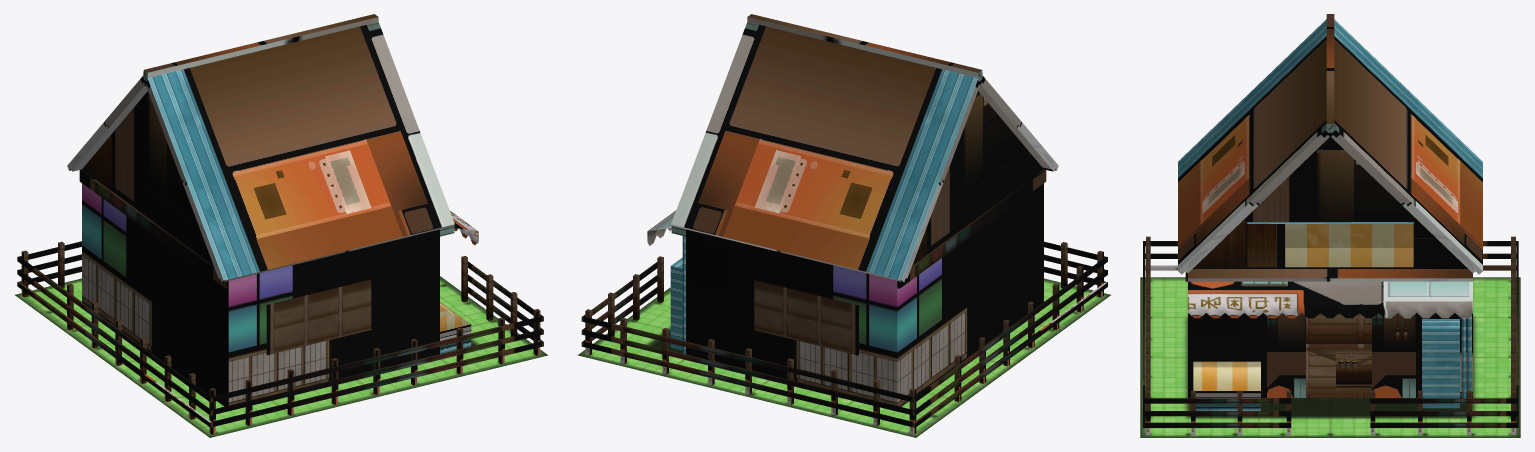
File: farm_build_Exchange.fbx
The picture shows the model from 3 angles, left to right: view 1: azimuth 30°, elevation 25°; view 2: azimuth 150°, elevation 25°; view 3: azimuth 270°, elevation 25°; orthographic projection. The views are drawn at different scales.
Visible parts, largest first — view 1: farm_build_09, farm_build_09_tile; view 2: farm_build_09, farm_build_09_tile; view 3: farm_build_09, farm_build_09_tile.
Boxes of the visible parts, left/top/right/bottom form: farm_build_09: left=17, top=14, right=543, bottom=434; farm_build_09_tile: left=15, top=276, right=547, bottom=437; farm_build_09: left=581, top=14, right=1107, bottom=434; farm_build_09_tile: left=578, top=278, right=1110, bottom=437; farm_build_09: left=1143, top=14, right=1518, bottom=435; farm_build_09_tile: left=1140, top=277, right=1520, bottom=437.
Bounding box in the file's own units: 8 × 6.48 × 8.
